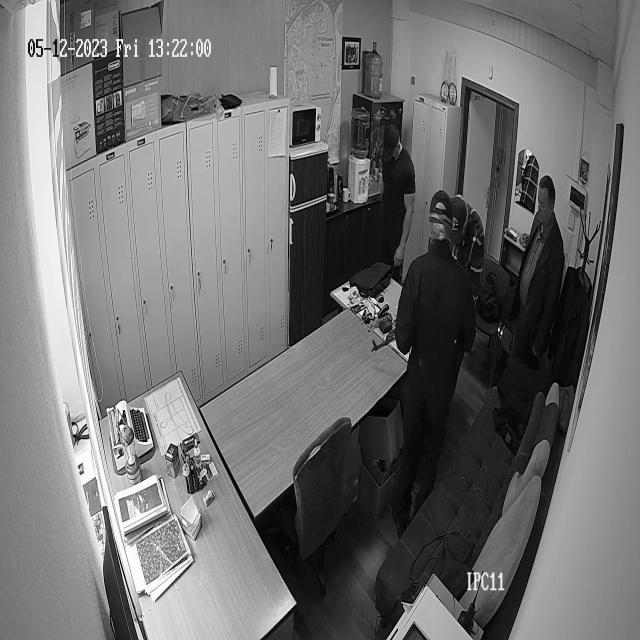gun: (370, 322, 400, 357)
person: (512, 169, 568, 412), (381, 115, 422, 286)
person with a gun: (370, 185, 470, 488)
